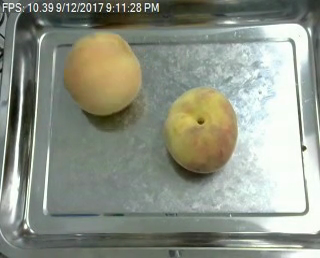Peach: (64, 31, 141, 116), (164, 86, 238, 174)
